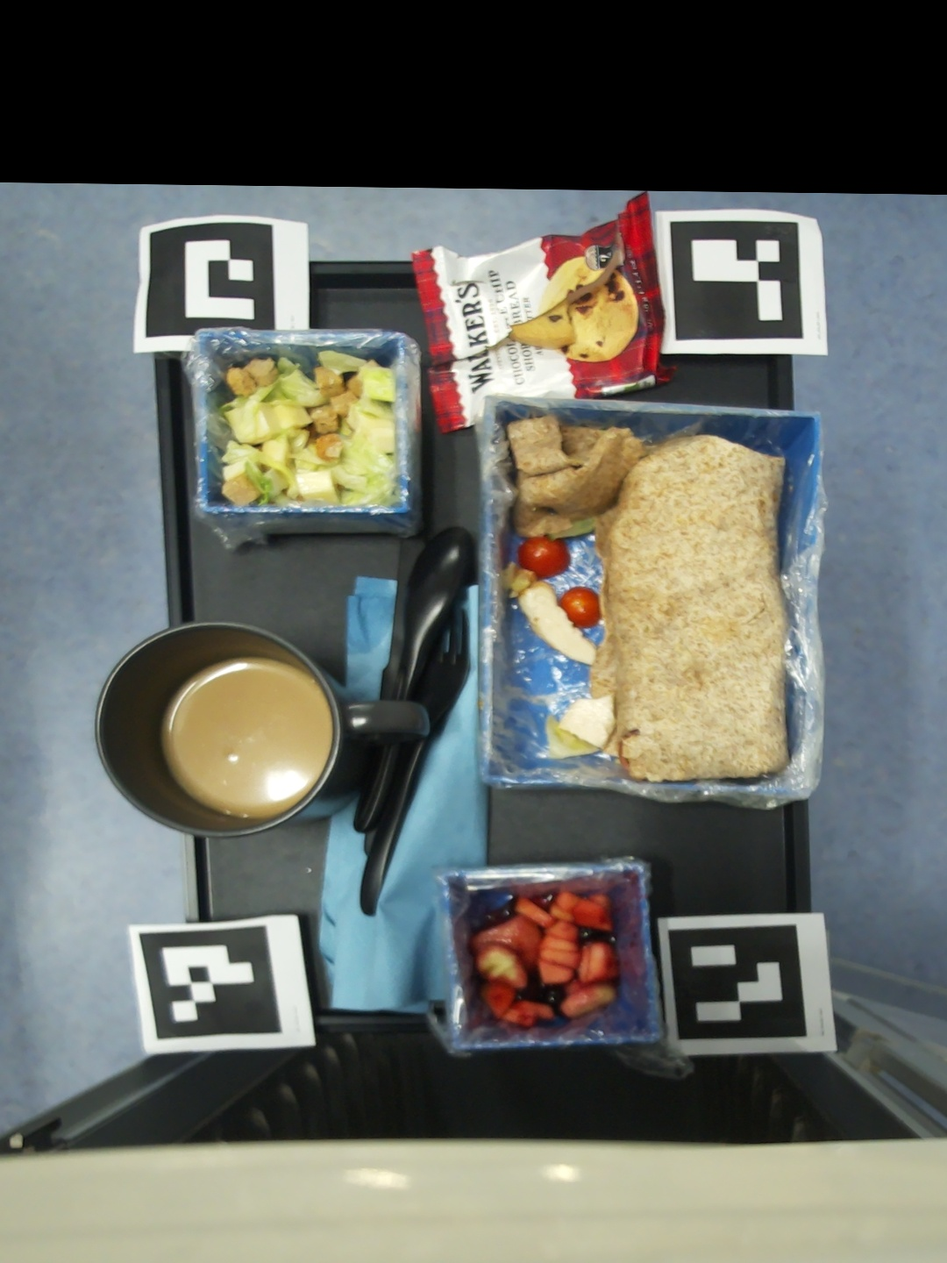coffee_cup: (92, 622, 428, 838)
cookie: (411, 191, 677, 435)
fruit_salad: (469, 892, 618, 1030)
side_salad: (215, 350, 400, 508)
wrap_half_1: (500, 414, 650, 665), (545, 694, 614, 759)
wrap_half_2: (590, 435, 789, 779)
